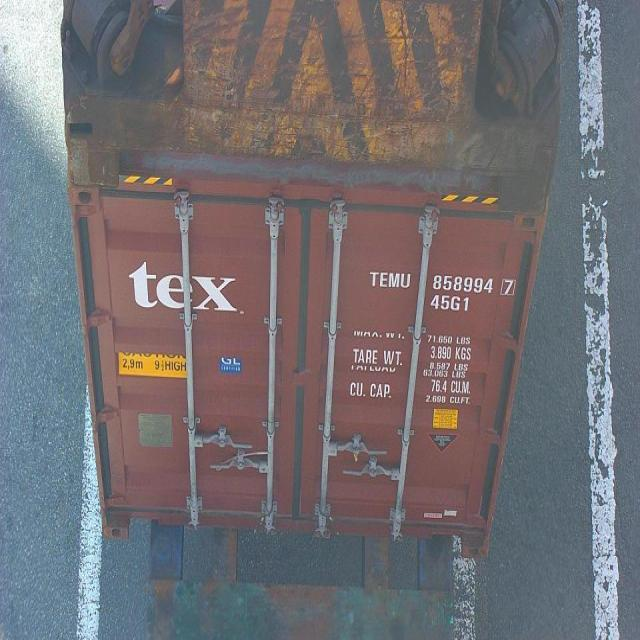ISO: (432, 295, 470, 313)
container_number: (370, 270, 515, 290)
